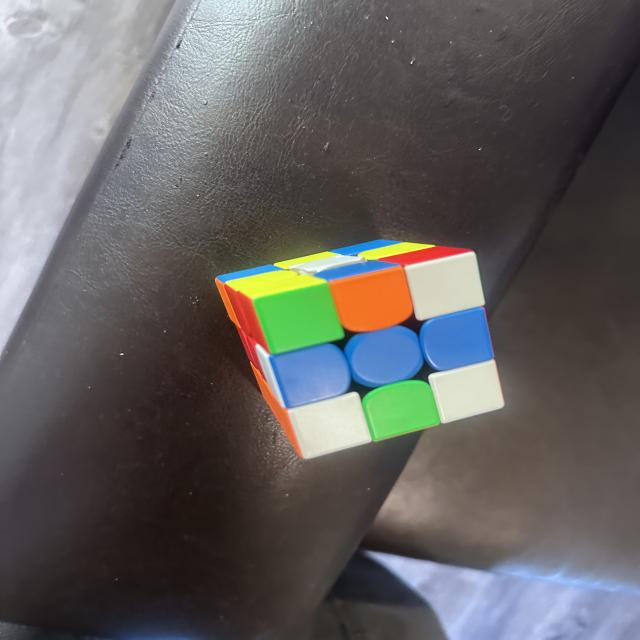sticker: (339, 237, 484, 321), (227, 267, 344, 356), (322, 260, 413, 334), (404, 250, 487, 322), (285, 391, 372, 459), (265, 342, 352, 409), (213, 266, 289, 340), (427, 359, 508, 425), (345, 325, 425, 389), (419, 306, 496, 372), (361, 379, 441, 442), (224, 288, 266, 352)
